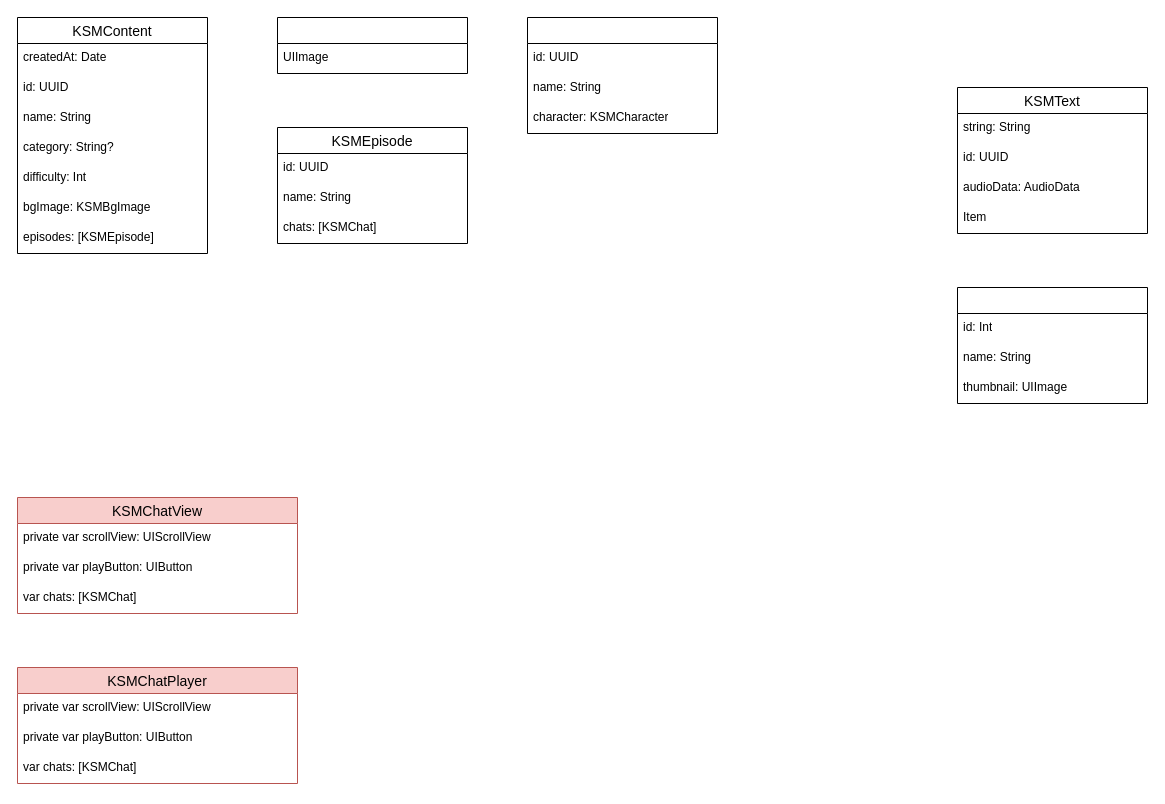
Some shapes in this 1165 by 804 pixel diagram are drawn without their labels. Here are the shapes that lost their labels. From the top down, the box of each, then its label:
(276, 16, 468, 74): KSMBgImage
(526, 16, 718, 134): KSMChat
(956, 286, 1148, 404): KSMCharacter
